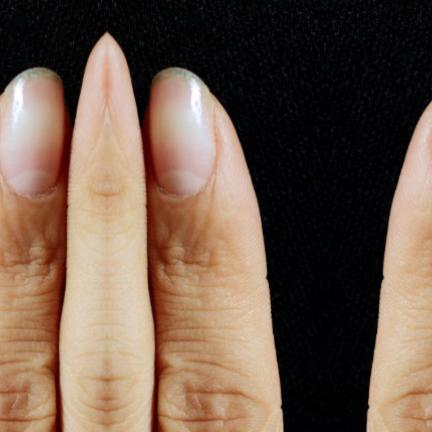Nail: (150, 68, 216, 196), (0, 68, 62, 196)
